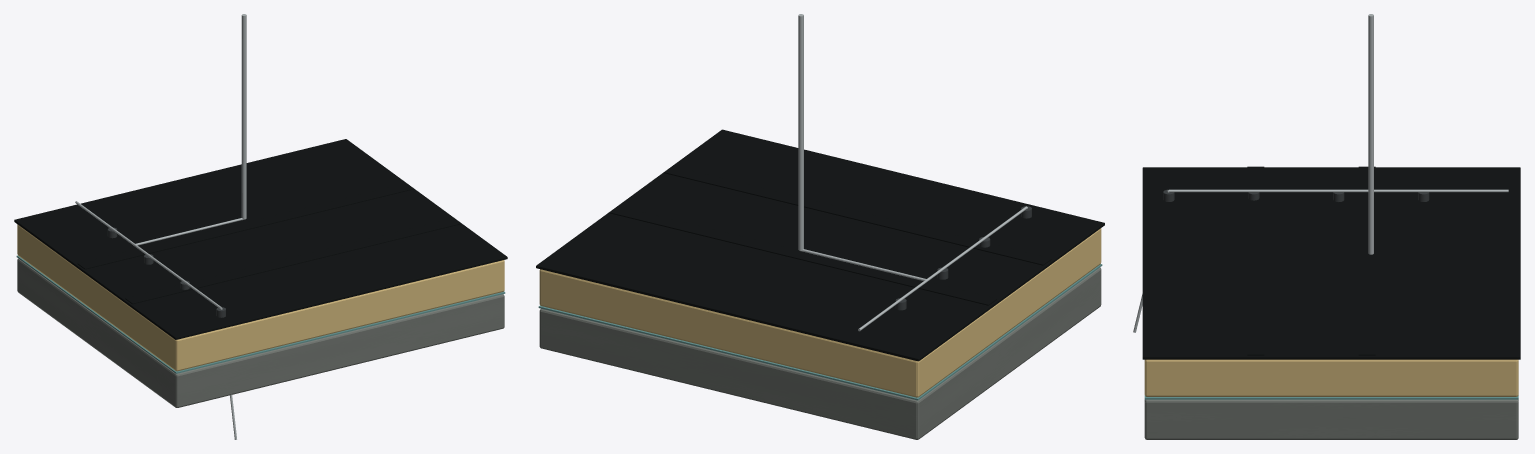
The model's file is modell.glb.
3 views of the same model, side by side, from view 1: azimuth 30°, elevation 25°; view 2: azimuth 150°, elevation 25°; view 3: azimuth 270°, elevation 25° (orthographic). The views are drawn at different scales.
Visible parts, largest first — view 1: a04-abdichtung_deckung, a04-untergrund_tragwerk, a04-daemmung_daemmung, a04-naht_deckung, a04-luftdichtheit_luftdichtheit, a04-fangeinrichtung_, a04-ableitung_; view 2: a04-abdichtung_deckung, a04-untergrund_tragwerk, a04-daemmung_daemmung, a04-naht_deckung, a04-luftdichtheit_luftdichtheit, a04-fangeinrichtung_, a04-ableitung_; view 3: a04-abdichtung_deckung, a04-untergrund_tragwerk, a04-daemmung_daemmung, a04-naht_deckung, a04-fangeinrichtung_, a04-ableitung_, a04-luftdichtheit_luftdichtheit, a04-halter_.
Boxes of the visible parts, box(x1,y1,x2,y2) form: a04-abdichtung_deckung: box(14, 139, 507, 339); a04-untergrund_tragwerk: box(17, 258, 504, 407); a04-daemmung_daemmung: box(17, 224, 504, 371); a04-naht_deckung: box(77, 183, 461, 304); a04-luftdichtheit_luftdichtheit: box(16, 255, 505, 373); a04-fangeinrichtung_: box(241, 14, 246, 219); a04-ableitung_: box(75, 201, 243, 308); a04-abdichtung_deckung: box(536, 129, 1104, 361); a04-untergrund_tragwerk: box(539, 267, 1101, 439); a04-daemmung_daemmung: box(539, 228, 1101, 397); a04-naht_deckung: box(609, 166, 1051, 305); a04-luftdichtheit_luftdichtheit: box(538, 264, 1102, 400); a04-fangeinrichtung_: box(798, 14, 803, 250); a04-ableitung_: box(801, 206, 1027, 331); a04-abdichtung_deckung: box(1142, 167, 1520, 359); a04-untergrund_tragwerk: box(1144, 399, 1518, 439); a04-daemmung_daemmung: box(1144, 359, 1518, 396); a04-naht_deckung: box(1247, 166, 1375, 355); a04-fangeinrichtung_: box(1368, 14, 1373, 254); a04-ableitung_: box(1169, 189, 1508, 192); a04-luftdichtheit_luftdichtheit: box(1144, 395, 1518, 399); a04-halter_: box(1163, 189, 1429, 201).
Bounding box in the file's own units: 2.22 × 2.07 × 1.92.
Materials: 6 (1 with a texture image).
